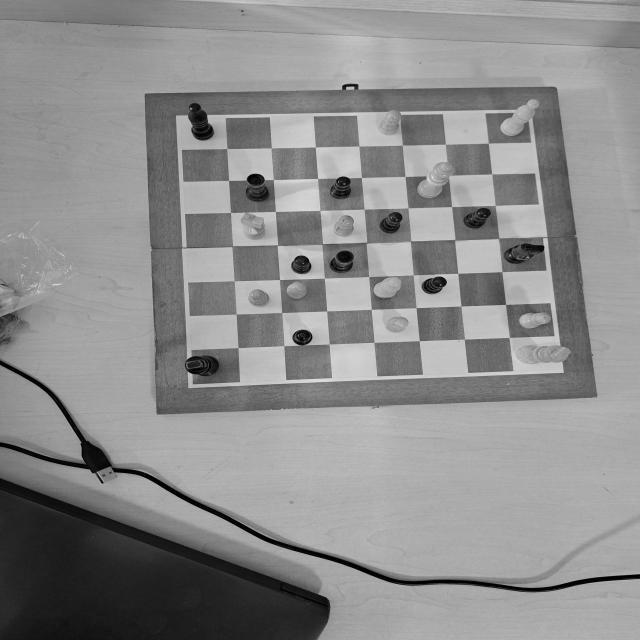chess-table-corners: (508, 105, 544, 125), (543, 360, 572, 378), (184, 378, 202, 391), (172, 113, 189, 124)
